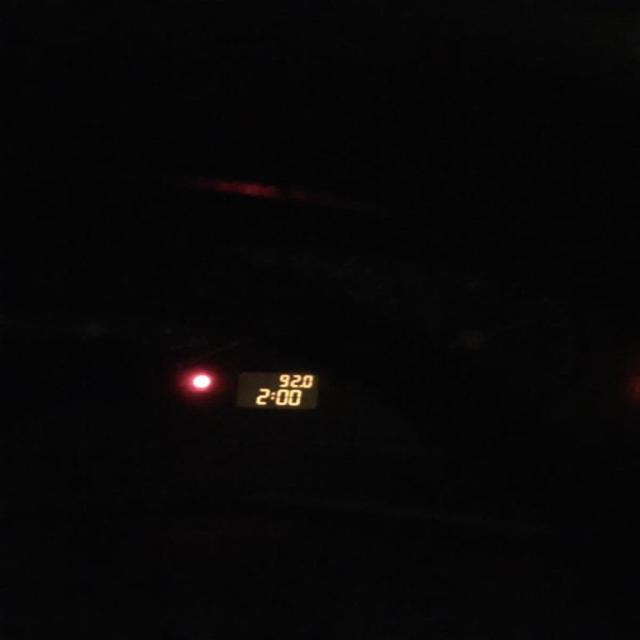odometer: (229, 368, 322, 410)
